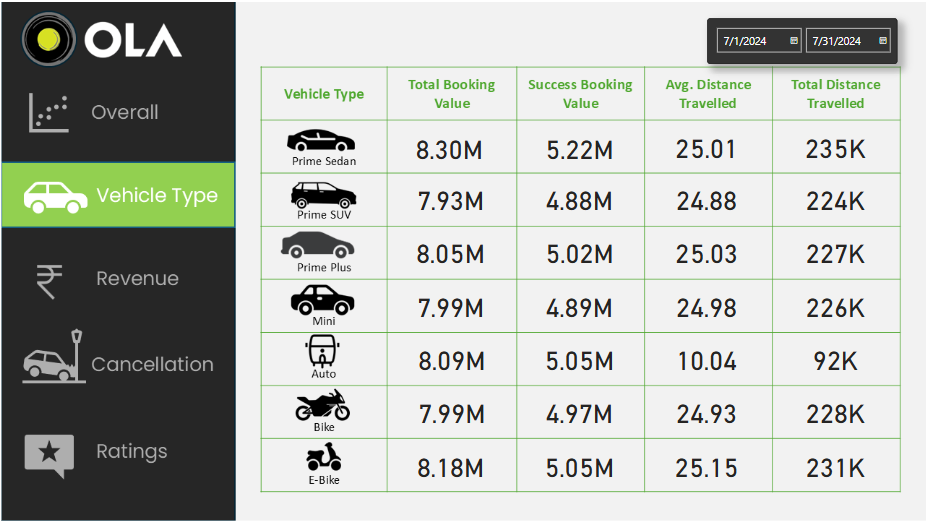

Layout of this report page (visuals, bound fields, positions):
{"tool":"powerbi","page":{"name":"Vehicle Type","canvas":[1280,720],"ordinal":1},"visuals":[{"type":"actionButton","box":[0,340.2,324.5,89.3],"z":0},{"type":"actionButton","box":[0,447.6,324.5,97.7],"z":1000},{"type":"actionButton","box":[0,574.3,324.5,97.7],"z":2000},{"type":"actionButton","box":[0,114.6,324.5,89.3],"z":3000},{"type":"card","fields":{"Values":["Sum(July.Booking_Value)"]},"box":[536.5,174.3,175.6,67.2],"z":4000},{"type":"card","fields":{"Values":["Sum(July.Booking_Value)"]},"box":[535.2,244.3,175.6,67.2],"z":5000},{"type":"card","fields":{"Values":["Sum(July.Booking_Value)"]},"box":[535.2,317,175.6,67.2],"z":6000},{"type":"card","fields":{"Values":["Sum(July.Booking_Value)"]},"box":[535.2,389.7,175.6,67.2],"z":7000},{"type":"card","fields":{"Values":["Sum(July.Booking_Value)"]},"box":[537.9,462.4,175.6,67.2],"z":8000},{"type":"card","fields":{"Values":["Sum(July.Booking_Value)"]},"box":[537.9,537.9,175.6,67.2],"z":9000},{"type":"card","fields":{"Values":["Sum(July.Booking_Value)"]},"box":[537.9,610.6,175.6,67.2],"z":10000},{"type":"card","fields":{"Values":["Sum(July.Booking_Value)"]},"box":[713.6,170.2,175.6,67.2],"z":11000},{"type":"card","fields":{"Values":["Sum(July.Booking_Value)"]},"box":[713.6,244.3,175.6,67.2],"z":12000},{"type":"card","fields":{"Values":["Sum(July.Booking_Value)"]},"box":[716.3,317,175.6,67.2],"z":13000},{"type":"card","fields":{"Values":["Sum(July.Booking_Value)"]},"box":[713.6,388.3,175.6,67.2],"z":14000},{"type":"card","fields":{"Values":["Sum(July.Booking_Value)"]},"box":[713.6,463.8,175.6,67.2],"z":15000},{"type":"card","fields":{"Values":["Sum(July.Booking_Value)"]},"box":[712.2,536.5,175.6,67.2],"z":16000},{"type":"card","fields":{"Values":["Sum(July.Booking_Value)"]},"box":[710.8,609.3,175.6,67.2],"z":17000},{"type":"card","fields":{"Values":["Sum(July.Ride_Distance)"]},"box":[1070.3,170.2,175.6,67.2],"z":18000},{"type":"card","fields":{"Values":["Avg(July.Ride_Distance)"]},"box":[886.5,170.2,175.6,67.2],"z":18001},{"type":"card","fields":{"Values":["Avg(July.Ride_Distance)"]},"box":[887.8,244.3,175.6,67.2],"z":18002},{"type":"card","fields":{"Values":["Avg(July.Ride_Distance)"]},"box":[887.8,317,175.6,67.2],"z":18003},{"type":"card","fields":{"Values":["Avg(July.Ride_Distance)"]},"box":[886.5,395.2,175.6,67.2],"z":18004},{"type":"card","fields":{"Values":["Avg(July.Ride_Distance)"]},"box":[886.5,609.3,175.6,67.2],"z":18005},{"type":"card","fields":{"Values":["Avg(July.Ride_Distance)"]},"box":[889.2,539.3,175.6,67.2],"z":18006},{"type":"card","fields":{"Values":["Avg(July.Ride_Distance)"]},"box":[886.5,463.8,175.6,67.2],"z":18007},{"type":"card","fields":{"Values":["Sum(July.Ride_Distance)"]},"box":[1062.1,610.6,175.6,67.2],"z":18008},{"type":"card","fields":{"Values":["Sum(July.Ride_Distance)"]},"box":[1062.1,539.3,175.6,67.2],"z":18009},{"type":"card","fields":{"Values":["Sum(July.Ride_Distance)"]},"box":[1064.8,463.8,175.6,67.2],"z":18010},{"type":"card","fields":{"Values":["Sum(July.Ride_Distance)"]},"box":[1064.8,395.2,175.6,67.2],"z":18011},{"type":"card","fields":{"Values":["Sum(July.Ride_Distance)"]},"box":[1070.3,317,175.6,67.2],"z":18012},{"type":"card","fields":{"Values":["Sum(July.Ride_Distance)"]},"box":[1070.3,244.3,175.6,67.2],"z":18013}]}

Visuals, with their boxes on the page's 1280x720 design canvas (x1, y1, x2, y2). These are canvas units, not pixel positions in the 928x525 screenshot, which may show the page scaled, cropped or inside an application window:
actionButton: BBox(0, 340, 324, 430)
actionButton: BBox(0, 448, 324, 545)
actionButton: BBox(0, 574, 324, 672)
actionButton: BBox(0, 115, 324, 204)
card - Sum(July.Booking_Value): BBox(536, 174, 712, 242)
card - Sum(July.Booking_Value): BBox(535, 244, 711, 312)
card - Sum(July.Booking_Value): BBox(535, 317, 711, 384)
card - Sum(July.Booking_Value): BBox(535, 390, 711, 457)
card - Sum(July.Booking_Value): BBox(538, 462, 714, 530)
card - Sum(July.Booking_Value): BBox(538, 538, 714, 605)
card - Sum(July.Booking_Value): BBox(538, 611, 714, 678)
card - Sum(July.Booking_Value): BBox(714, 170, 889, 237)
card - Sum(July.Booking_Value): BBox(714, 244, 889, 312)
card - Sum(July.Booking_Value): BBox(716, 317, 892, 384)
card - Sum(July.Booking_Value): BBox(714, 388, 889, 456)
card - Sum(July.Booking_Value): BBox(714, 464, 889, 531)
card - Sum(July.Booking_Value): BBox(712, 536, 888, 604)
card - Sum(July.Booking_Value): BBox(711, 609, 886, 676)
card - Sum(July.Ride_Distance): BBox(1070, 170, 1246, 237)
card - Avg(July.Ride_Distance): BBox(886, 170, 1062, 237)
card - Avg(July.Ride_Distance): BBox(888, 244, 1063, 312)
card - Avg(July.Ride_Distance): BBox(888, 317, 1063, 384)
card - Avg(July.Ride_Distance): BBox(886, 395, 1062, 462)
card - Avg(July.Ride_Distance): BBox(886, 609, 1062, 676)
card - Avg(July.Ride_Distance): BBox(889, 539, 1065, 606)
card - Avg(July.Ride_Distance): BBox(886, 464, 1062, 531)
card - Sum(July.Ride_Distance): BBox(1062, 611, 1238, 678)
card - Sum(July.Ride_Distance): BBox(1062, 539, 1238, 606)
card - Sum(July.Ride_Distance): BBox(1065, 464, 1240, 531)
card - Sum(July.Ride_Distance): BBox(1065, 395, 1240, 462)
card - Sum(July.Ride_Distance): BBox(1070, 317, 1246, 384)
card - Sum(July.Ride_Distance): BBox(1070, 244, 1246, 312)
